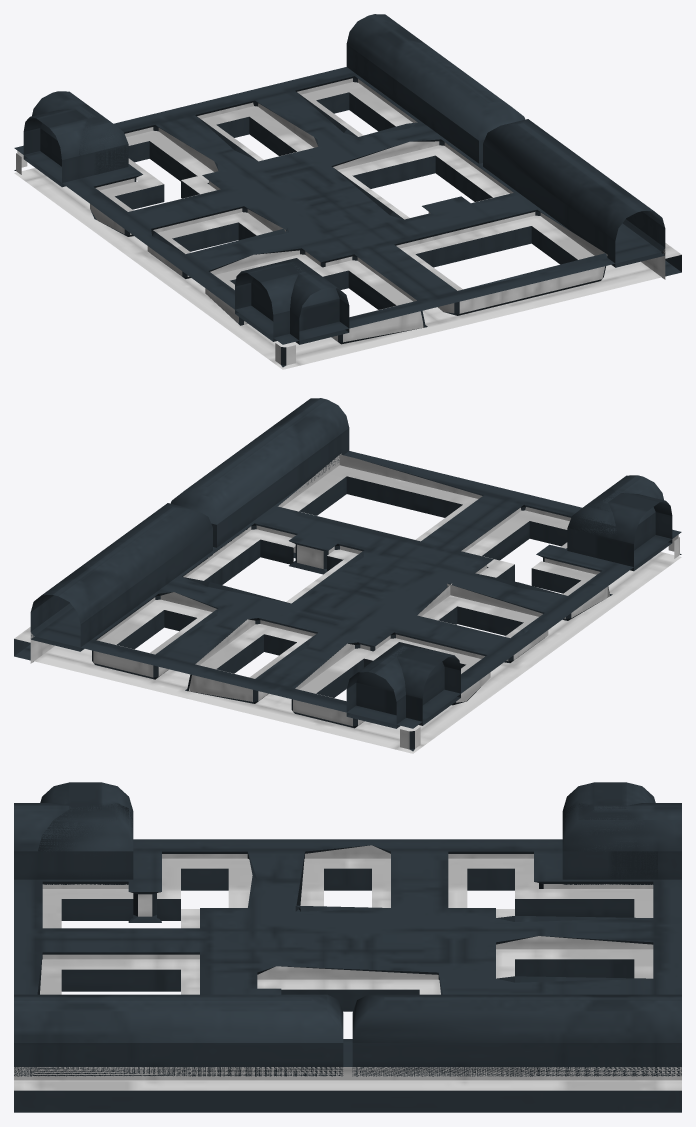
File: delbld-girder-599.glb
3 renders of one model, top to bottom at view 1: azimuth 30°, elevation 25°; view 2: azimuth 150°, elevation 25°; view 3: azimuth 270°, elevation 25°, orthographic. The views are drawn at different scales.
Parts seen in each view (by area): view 1: delbld-girder-599; view 2: delbld-girder-599; view 3: delbld-girder-599.
Boxes of the visible parts, x1,y1,x2,y2 form: delbld-girder-599: (14,14,681,369); delbld-girder-599: (14,398,681,753); delbld-girder-599: (14,782,681,1112).
Size of the model in its own units: 2 by 0.3567 by 2.33.
3 materials, 3 textured.
